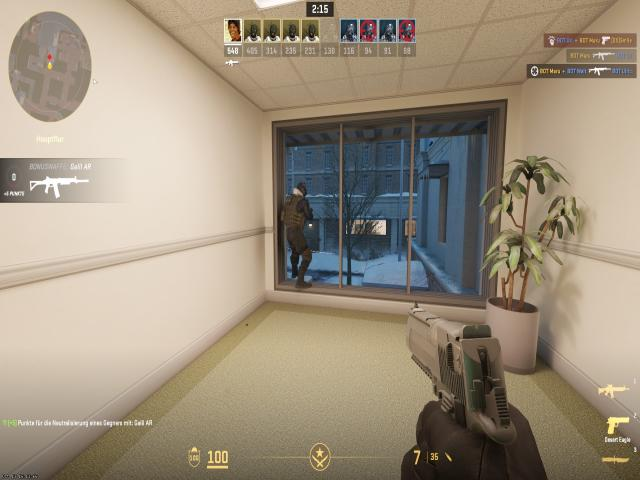CT: (286, 181, 309, 277)
CT-Head: (294, 182, 306, 196)
